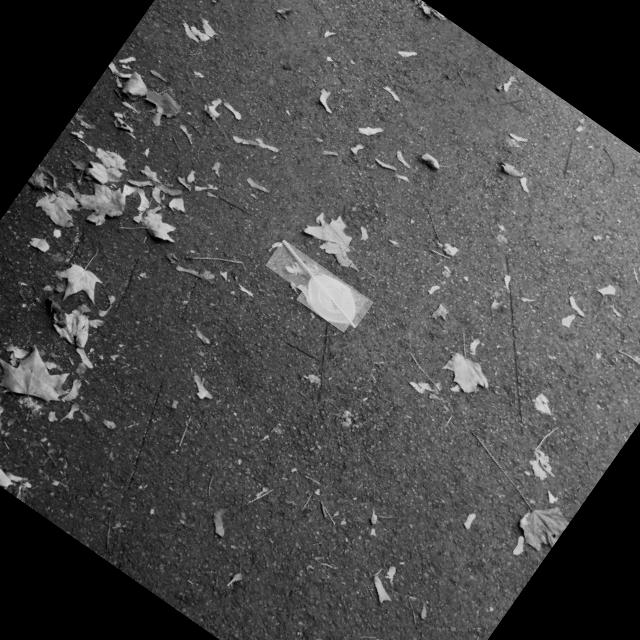Lid: (305, 273, 354, 323)
Straw: (281, 240, 355, 327)
Unlabeled litter: (10, 486, 23, 501)
